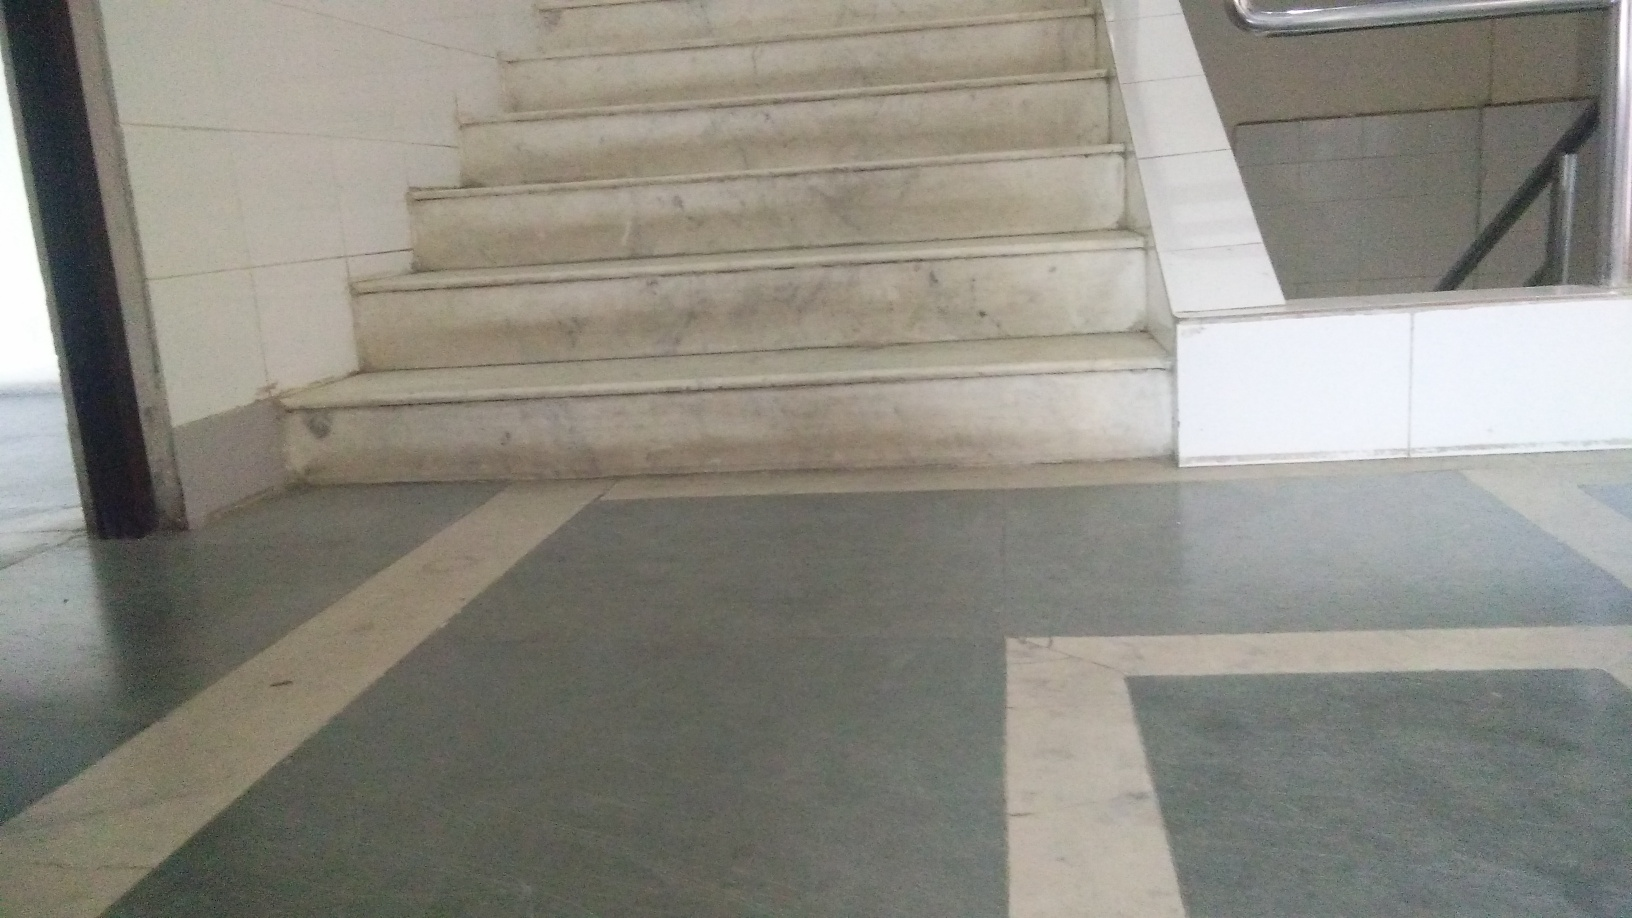stairs_up: (244, 8, 1190, 486)
